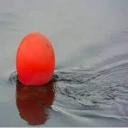red: (16, 33, 55, 87)
